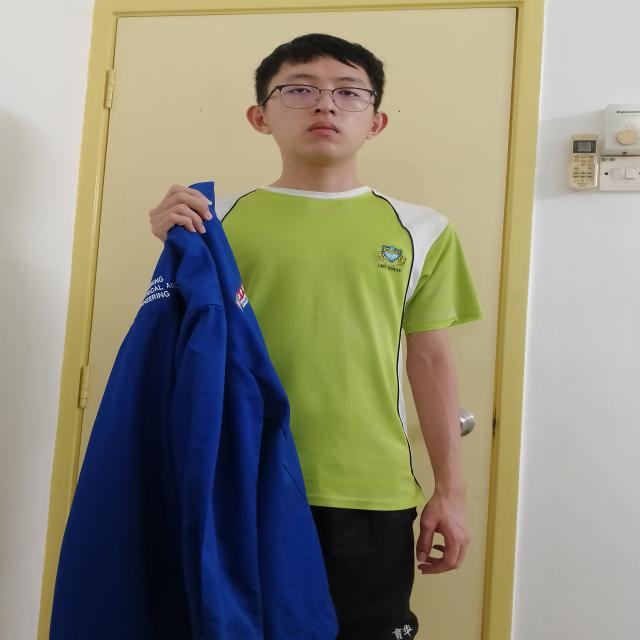person_without_labcoat: (53, 34, 483, 640)
